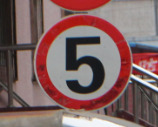speed_limit_5: (33, 14, 132, 113)
